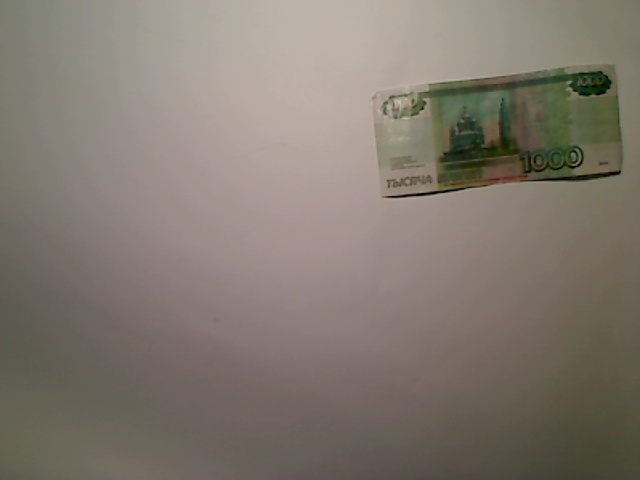banknotes: (366, 55, 628, 202)
